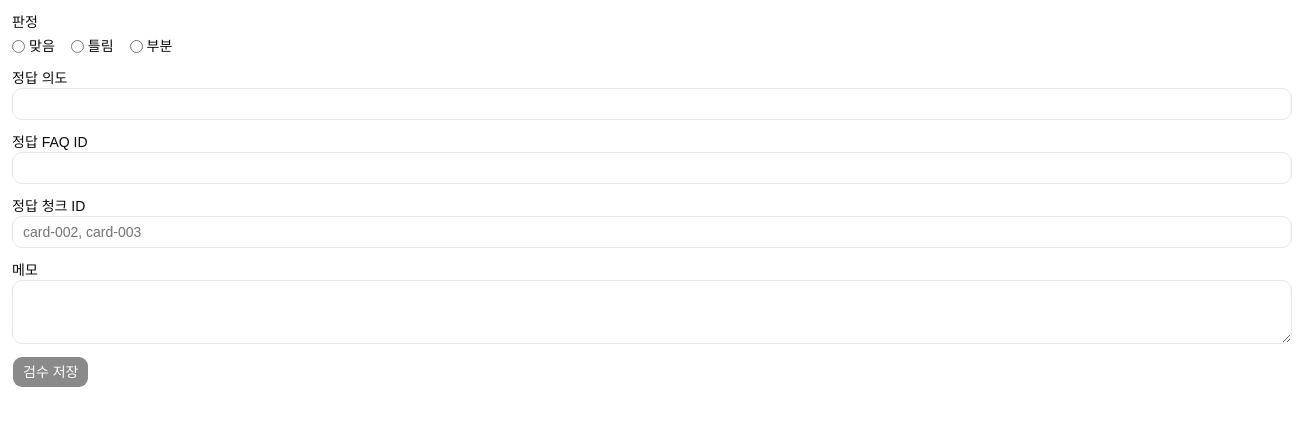
it: ReviewForm › 저장 실패(403 등)를 안전한 메시지로 보여주고 다시 시도할 수 있다
The image size is (1304, 437).
Step 1. Click the radio button labelled "부분" → point(136, 46), box [130, 40, 142, 52]
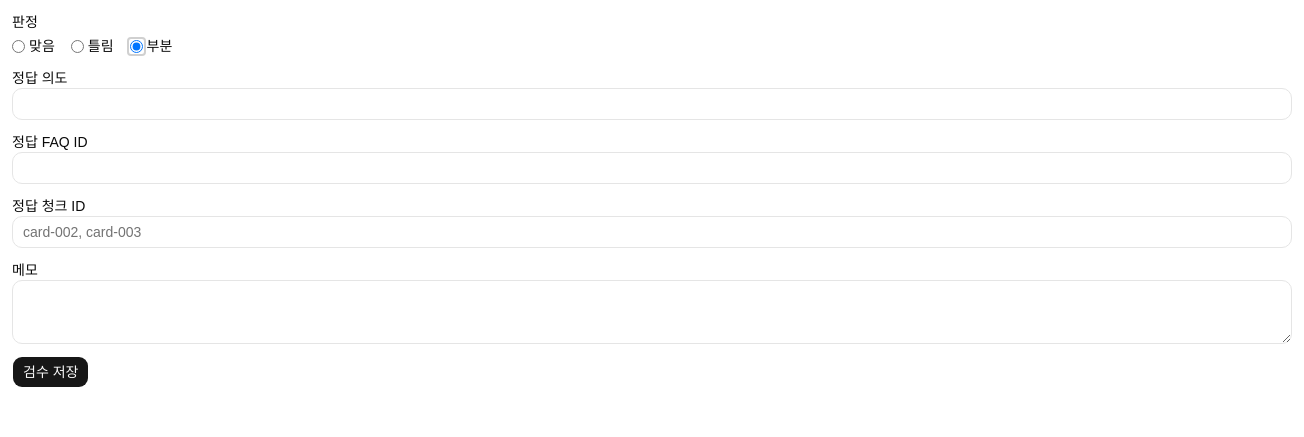
Step 2. Click the button "검수 저장" → point(51, 372), box [12, 356, 89, 388]
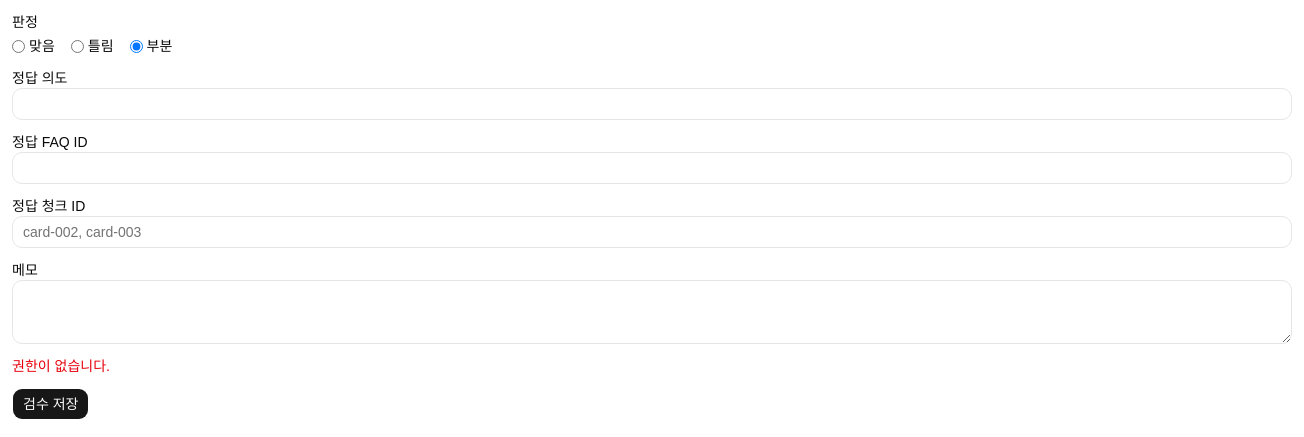
Expected: the button "검수 저장" is enabled, [12, 388, 89, 420]
Expected: the message reads "권한이 없습니다.", [12, 358, 110, 374]
